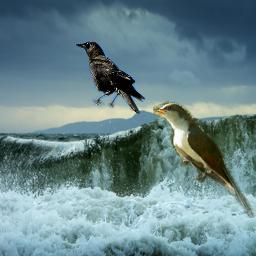Crow: (72, 40, 146, 115)
Cuckoo: (153, 100, 255, 218)
